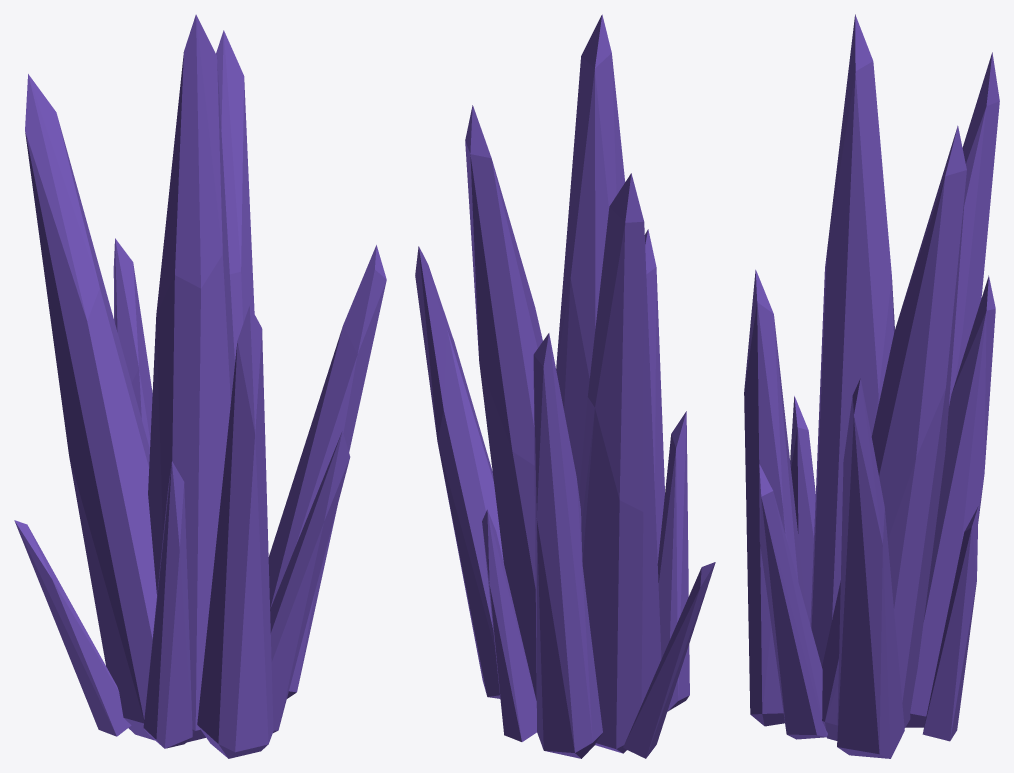
File: coral-1.gltf
3 views of the same model, side by side, from view 1: azimuth 30°, elevation 25°; view 2: azimuth 150°, elevation 25°; view 3: azimuth 270°, elevation 25° (orthographic).
Parts seen in each view (by area): view 1: Coral; view 2: Coral; view 3: Coral.
Part boxes in pixels (x1,y1,x2,y2): Coral: (14, 14, 386, 758); Coral: (415, 14, 715, 758); Coral: (744, 14, 999, 758).
Bounding box in the file's own units: 0.2517 × 0.5149 × 0.166.
